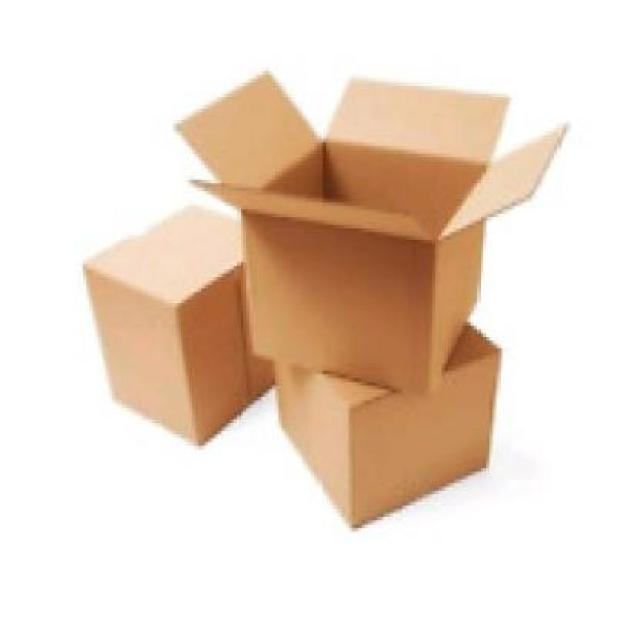box: (167, 54, 570, 406), (262, 331, 504, 547), (65, 200, 258, 466)
